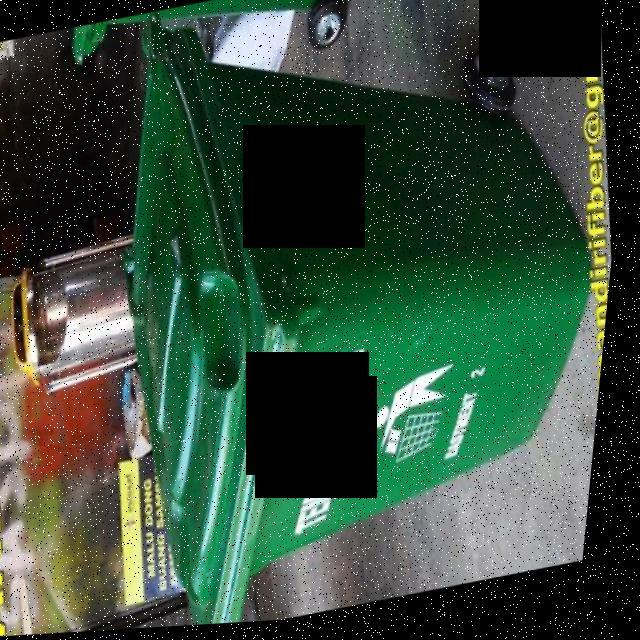bin: (31, 0, 640, 636)
